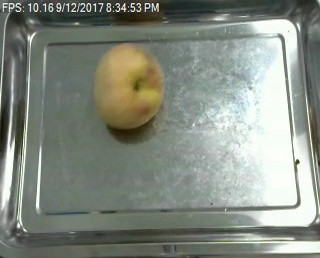Peach: (93, 42, 164, 129)
